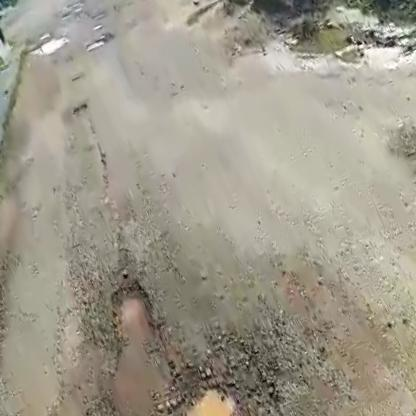pothole: (98, 276, 166, 349), (177, 379, 251, 416), (23, 31, 70, 63)
